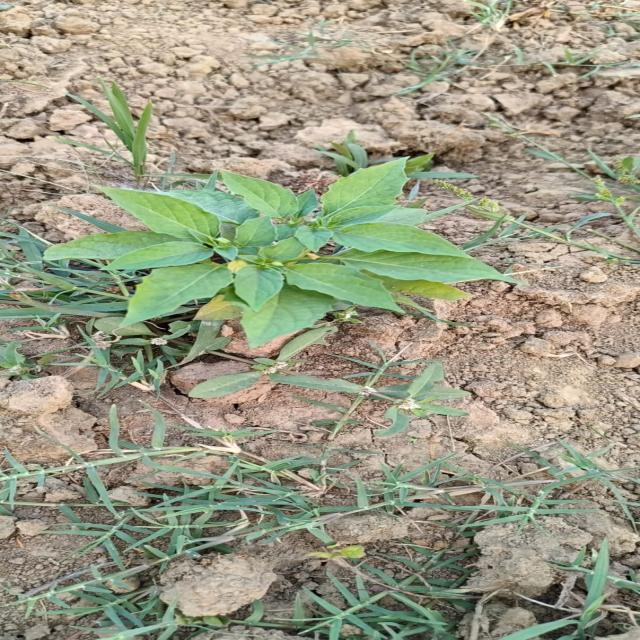plant: (45, 160, 508, 346)
